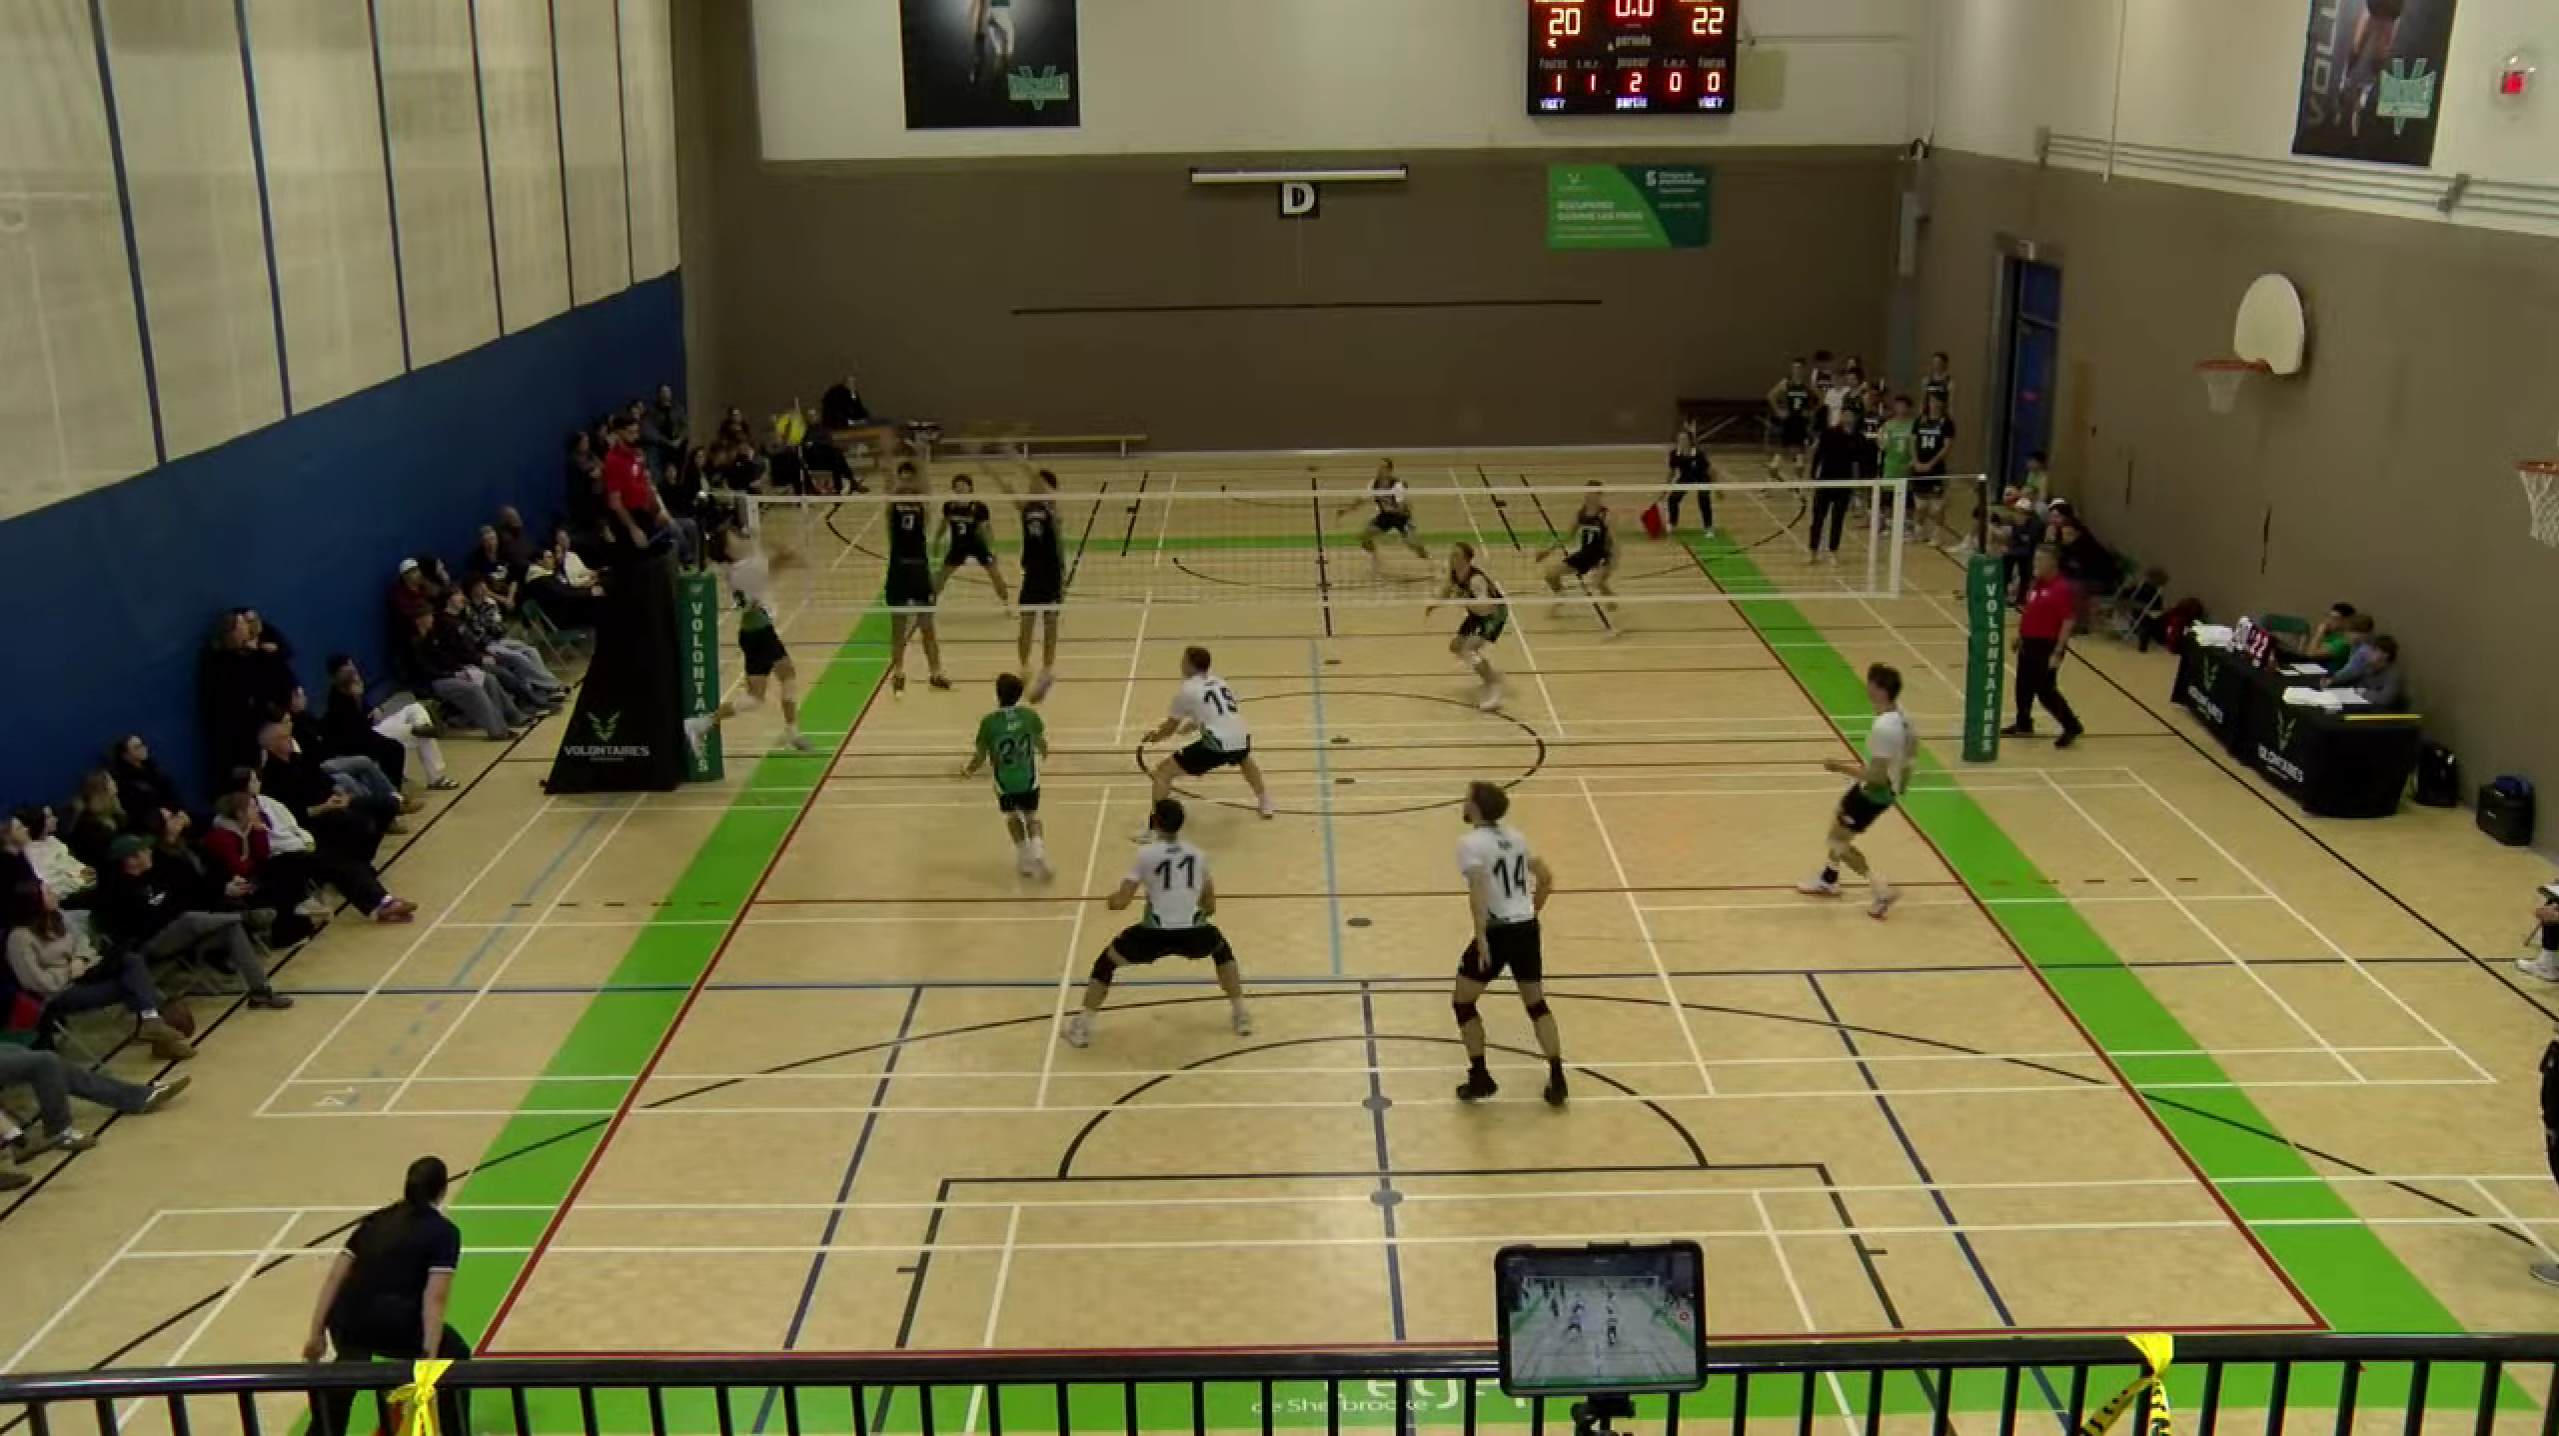Ball: (772, 410, 808, 448)
